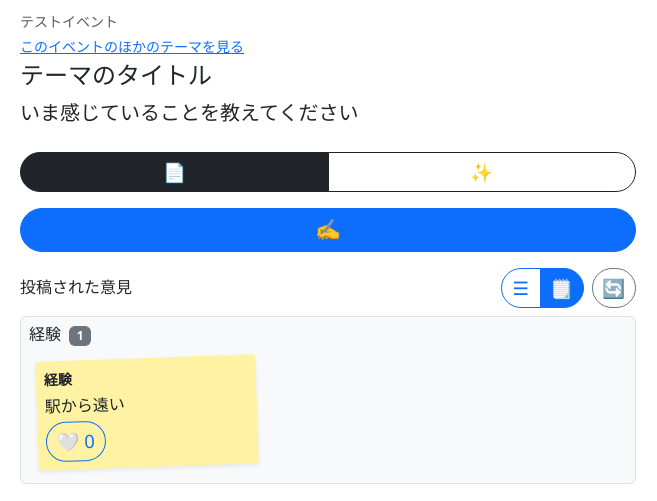
Test: 参加者の画面の、要約の見方 › 公開されていれば、切り替えて要約を見られる。「そのまま」に戻せる
Check: the text "駅から遠い" is shown, box [44, 393, 125, 418]
Click the button named "要約（AI）".
click(482, 172)  # box [328, 152, 636, 192]
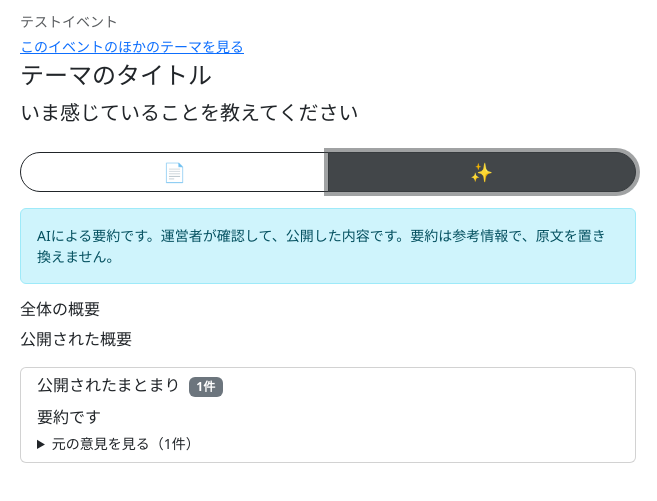
Check: the element with test id "summary-view" is shown, box [20, 208, 636, 463]
Check: the text "公開された概要" is shown, box [20, 328, 132, 350]
Check: the link "意見を投稿する" is gone
Click the button named "そのまま（原文）".
click(174, 172)  # box [20, 152, 328, 192]
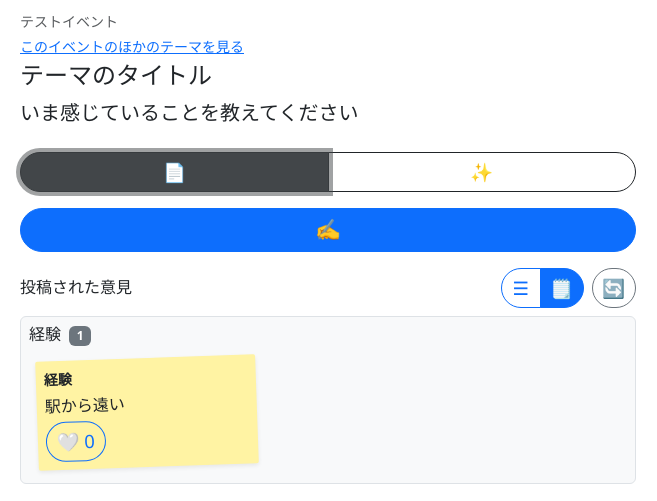
Check: the link named "意見を投稿する" is shown, box [20, 208, 636, 252]
